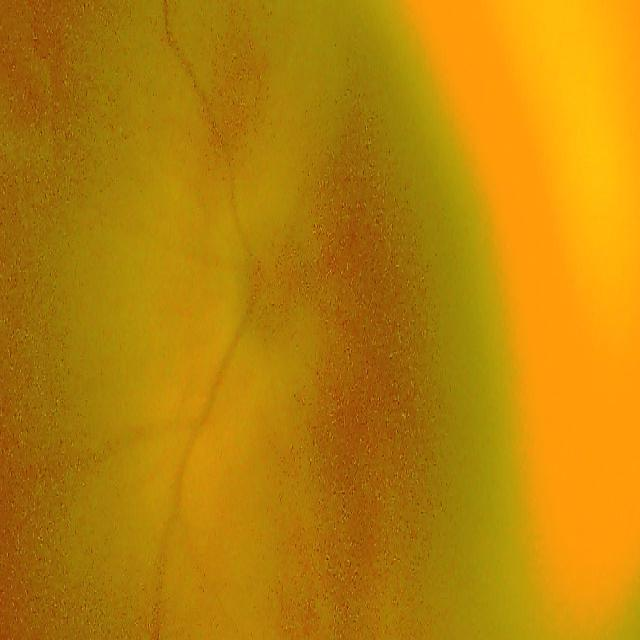optic-nerve: (230, 214, 308, 356)
